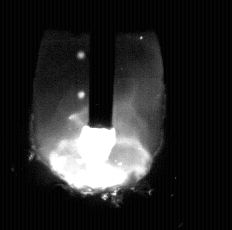arame: (89, 0, 114, 129)
poca: (31, 0, 166, 230)
